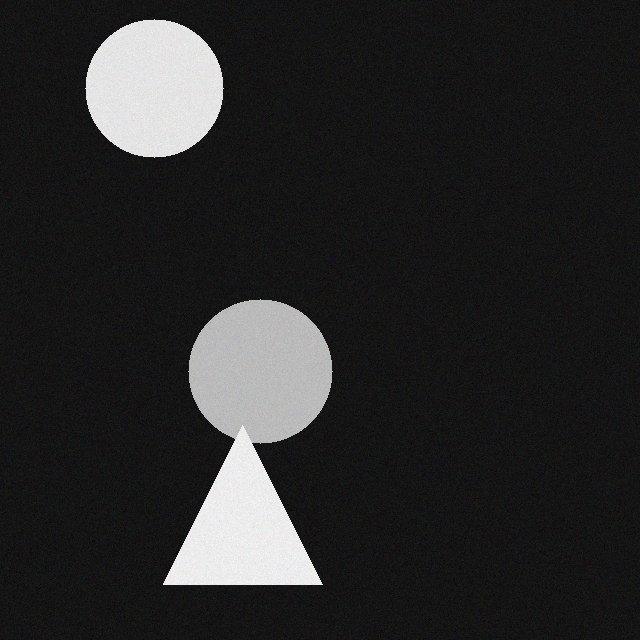circle: (200, 301, 344, 445), (97, 21, 235, 159)
triangle: (175, 427, 334, 586)
